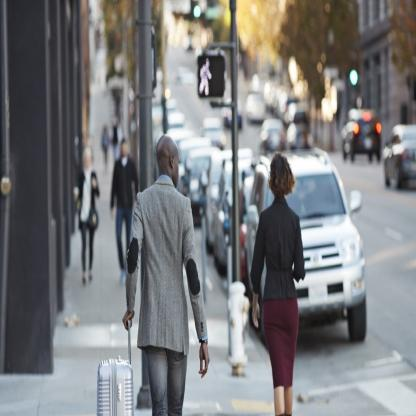Walk: (197, 54, 226, 97)
